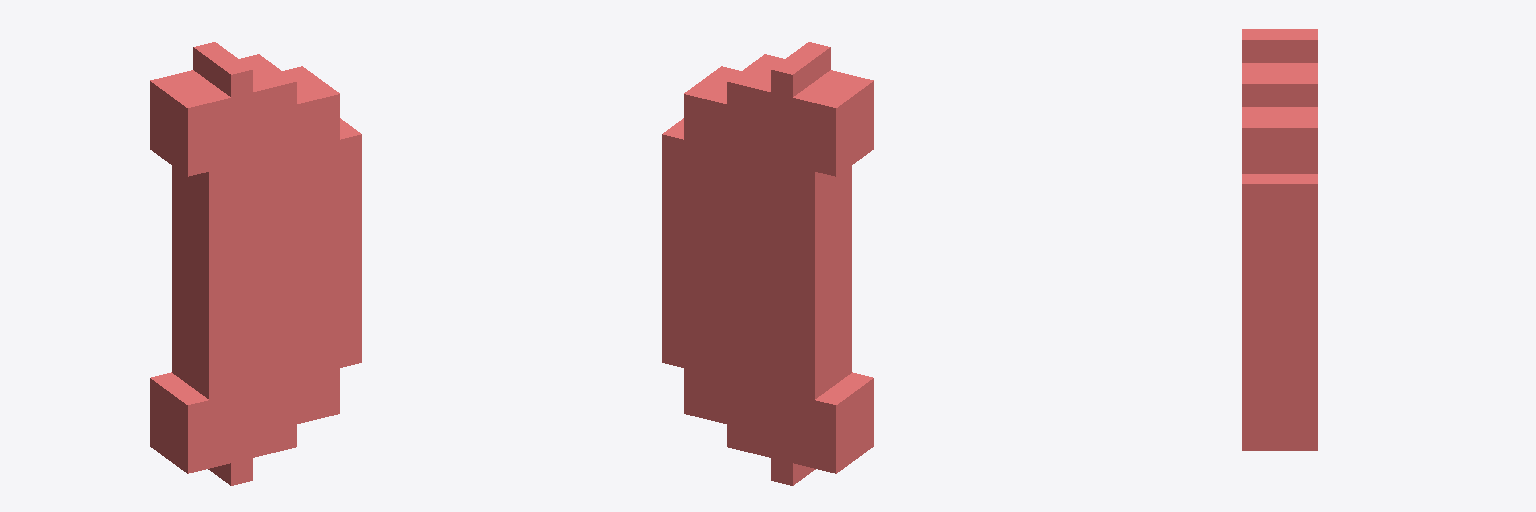
3 renders of one model, left to right at view 1: azimuth 30°, elevation 25°; view 2: azimuth 150°, elevation 25°; view 3: azimuth 270°, elevation 25°, orthographic.
Parts seen in each view (by area): view 1: tunnel2; view 2: tunnel2; view 3: tunnel2.
Part boxes in pixels (x1,y1,x2,y2): tunnel2: (150, 42, 361, 485); tunnel2: (662, 42, 873, 485); tunnel2: (1242, 29, 1317, 450).
Size of the model in its own units: 8 by 18 by 3.
Materials: 1 (1 with a texture image).